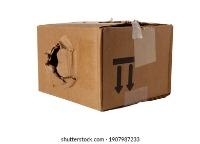damaged package: (40, 37, 78, 87)
undamaged: (33, 17, 170, 113)
